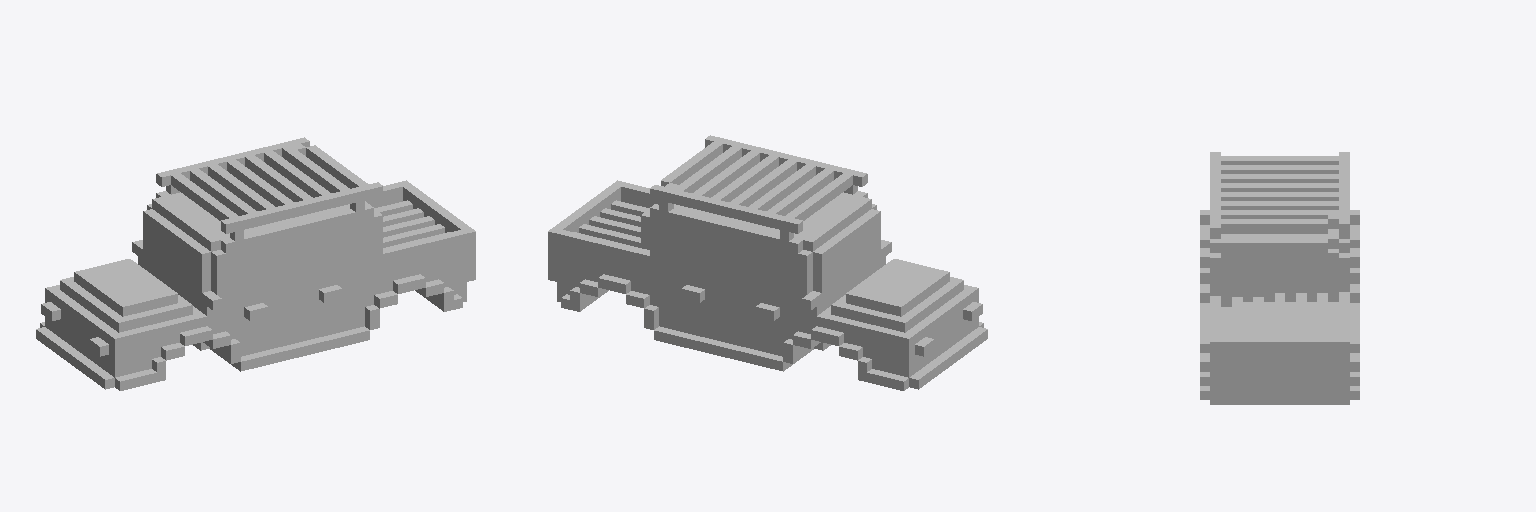
The model's file is masochut z kolami-4.obj.
3 views of the same model, side by side, from view 1: azimuth 30°, elevation 25°; view 2: azimuth 150°, elevation 25°; view 3: azimuth 270°, elevation 25° (orthographic).
Visible parts, largest first — view 1: object 1; view 2: object 1; view 3: object 1.
Part boxes in pixels (left/top/right/bottom): object 1: left=36, top=137, right=475, bottom=390; object 1: left=548, top=135, right=987, bottom=390; object 1: left=1200, top=152, right=1359, bottom=404.
Bounding box in the file's own units: 4 × 1.5 × 1.5.